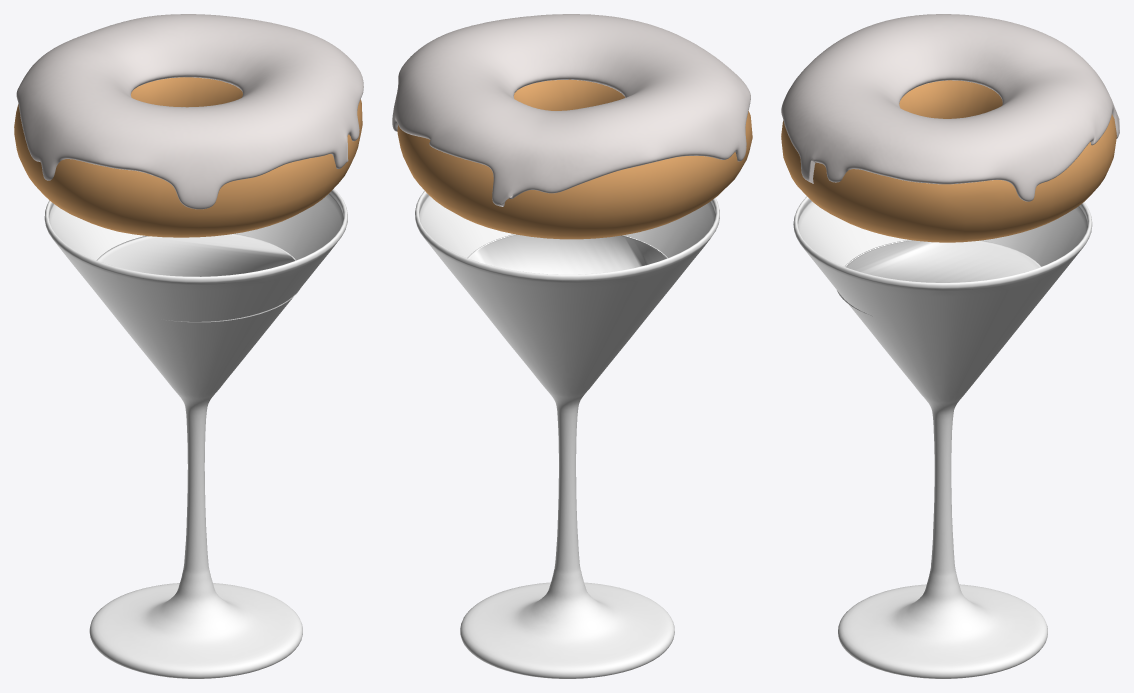
The model's file is donut.gltf.
3 renders of one model, left to right at view 1: azimuth 30°, elevation 25°; view 2: azimuth 150°, elevation 25°; view 3: azimuth 270°, elevation 25°, orthographic. The views are drawn at different scales.
Parts seen in each view (by area): view 1: Icing, Glass, Donut, Liquid; view 2: Icing, Glass, Donut, Liquid; view 3: Glass, Icing, Donut, Liquid.
Part boxes in pixels (bbox=[...]): Icing: bbox=[16, 14, 363, 209]; Glass: bbox=[44, 188, 347, 678]; Donut: bbox=[14, 77, 362, 237]; Liquid: bbox=[96, 233, 299, 322]; Icing: bbox=[392, 14, 750, 206]; Glass: bbox=[415, 190, 719, 678]; Donut: bbox=[397, 79, 752, 239]; Liquid: bbox=[467, 234, 667, 274]; Glass: bbox=[793, 196, 1092, 678]; Icing: bbox=[781, 14, 1119, 201]; Donut: bbox=[781, 80, 1116, 242]; Liquid: bbox=[837, 240, 1040, 316].
Bounding box in the file's own units: 3.39 × 5.83 × 3.18.
